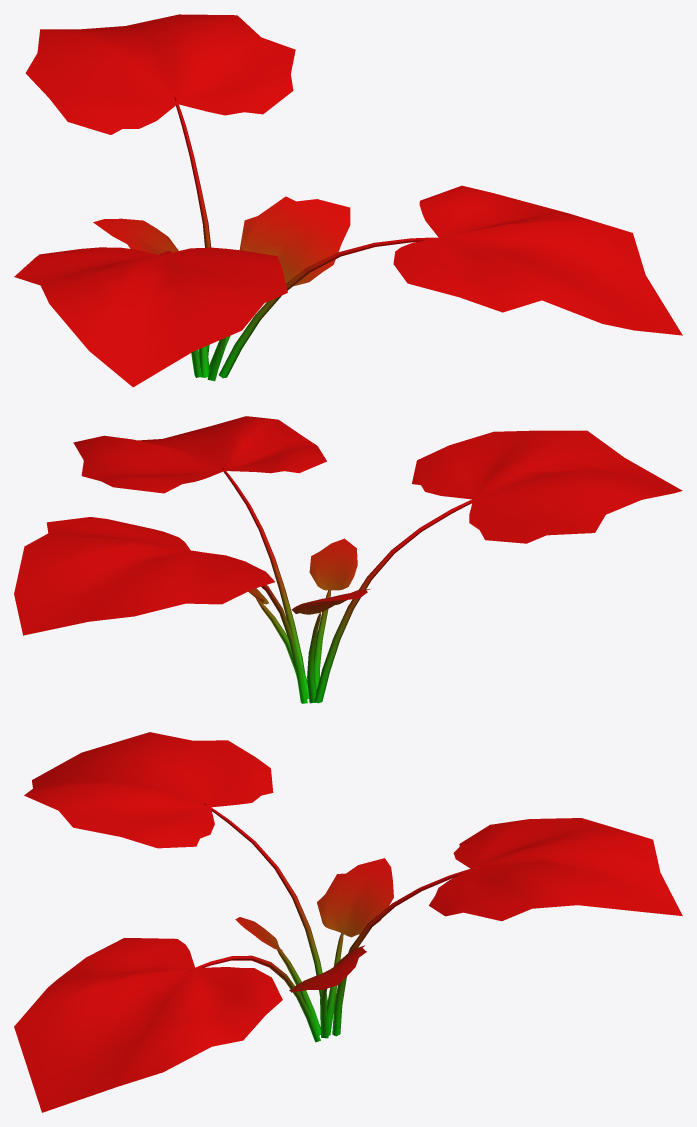
The model's file is Coltsfoot_LOD1_Var3_xbtkdfvqx.fbx.
3 renders of one model, top to bottom at view 1: azimuth 30°, elevation 25°; view 2: azimuth 150°, elevation 25°; view 3: azimuth 270°, elevation 25°, orthographic. The views are drawn at different scales.
Parts seen in each view (by area): view 1: _8tjp_Var3_LOD1; view 2: _8tjp_Var3_LOD1; view 3: _8tjp_Var3_LOD1.
Boxes of the visible parts, left/top/right/bottom form: _8tjp_Var3_LOD1: left=14, top=14, right=682, bottom=387; _8tjp_Var3_LOD1: left=14, top=416, right=682, bottom=703; _8tjp_Var3_LOD1: left=14, top=732, right=682, bottom=1112.
Size of the model in its own units: 25.09 by 9.23 by 26.52.
